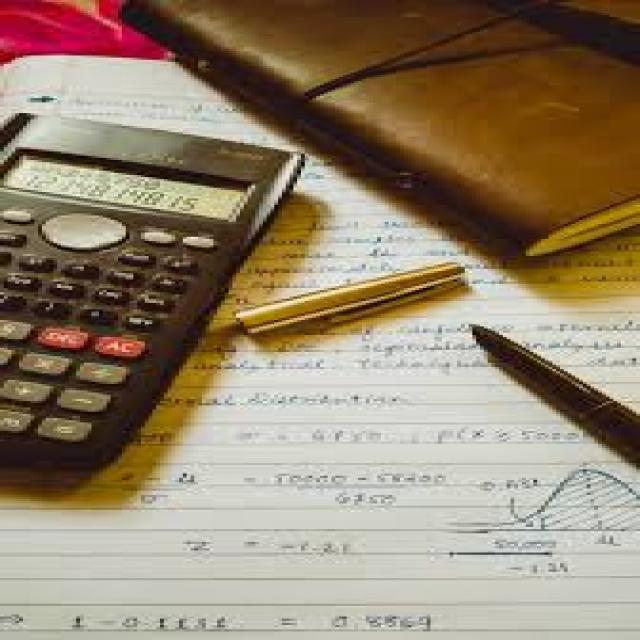Calculator: (0, 109, 308, 498)
